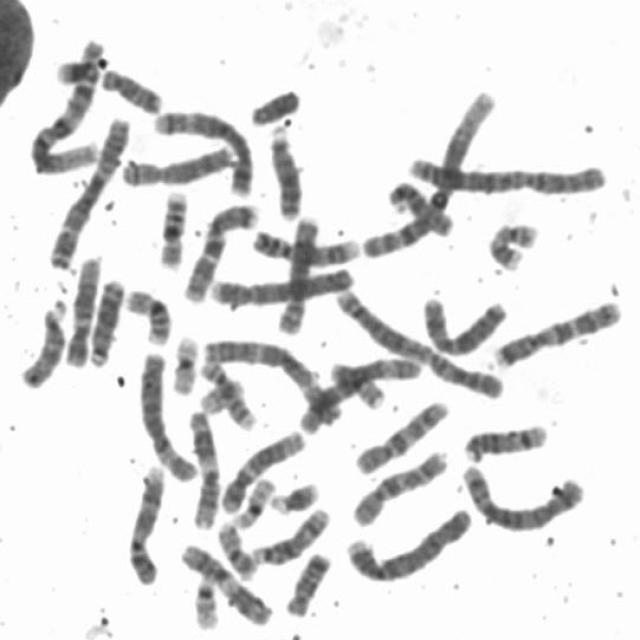A1: (356, 82, 500, 263), (27, 31, 104, 176)
A2: (329, 282, 507, 401), (402, 147, 613, 199)
A3: (196, 333, 342, 429), (45, 113, 132, 274)
B4: (340, 500, 476, 585), (207, 263, 355, 307)
B5: (147, 104, 256, 199), (457, 458, 588, 534)
C10: (346, 444, 451, 528), (348, 394, 452, 477)
C11: (174, 539, 273, 628), (181, 406, 221, 530)
C12: (218, 424, 308, 516), (62, 250, 104, 370)
C6: (294, 351, 424, 435), (134, 346, 200, 483)
C7: (488, 295, 624, 370), (177, 196, 260, 306)
C8: (271, 210, 323, 335), (116, 141, 237, 188)
C9: (123, 462, 168, 588), (247, 226, 362, 268)
D13: (84, 270, 128, 369), (265, 119, 304, 222)
D14: (248, 502, 332, 566), (458, 419, 551, 464)
D15: (17, 294, 71, 391), (383, 174, 457, 240)
E16: (120, 284, 172, 346), (154, 186, 189, 272)
E17: (195, 357, 259, 432), (482, 216, 540, 274)
E18: (280, 545, 335, 618), (96, 62, 166, 116)
F19: (228, 473, 278, 532), (166, 329, 201, 398)
F20: (327, 358, 389, 412), (213, 518, 258, 582)
G21: (265, 475, 322, 516), (54, 58, 100, 84)
G22: (195, 374, 246, 416), (188, 571, 222, 633)
X: (418, 294, 508, 358)
Y: (245, 81, 304, 128)
